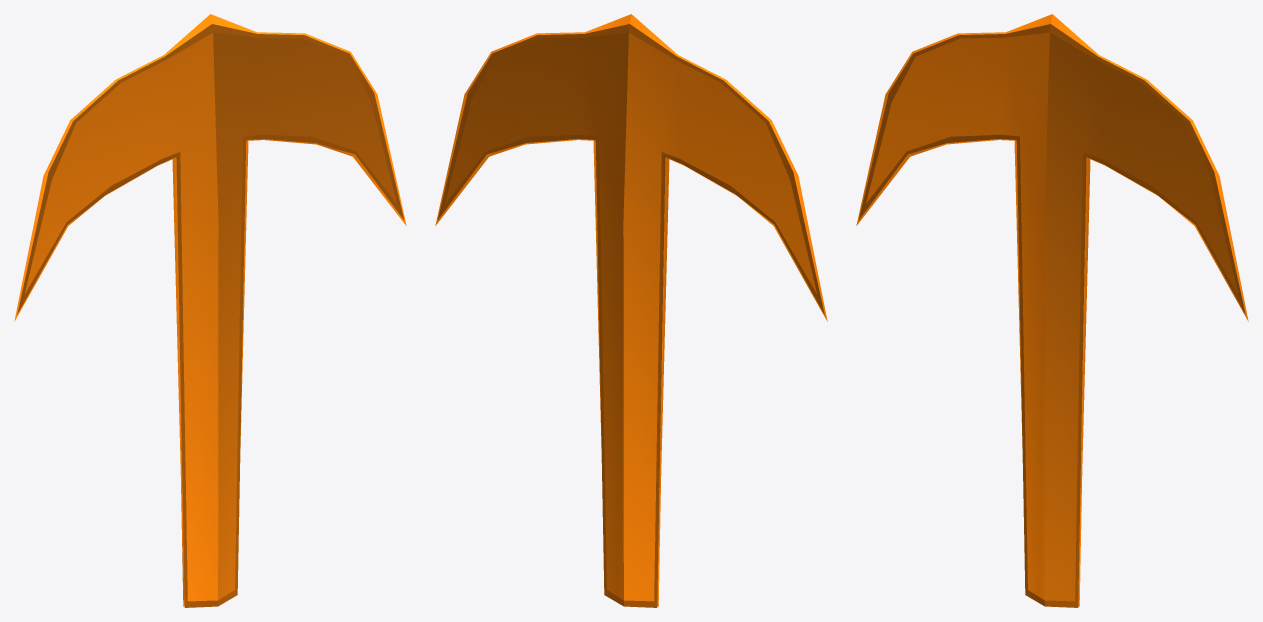
Rendered from bronze_blade (14).glb.
3 renders of one model, left to right at view 1: azimuth 30°, elevation 25°; view 2: azimuth 150°, elevation 25°; view 3: azimuth 330°, elevation 25°, orthographic.
Visible parts, largest first — view 1: bronze_blade_steel.029; view 2: bronze_blade_steel.029; view 3: bronze_blade_steel.029.
Part boxes in pixels (x1,y1,x2,y2): bronze_blade_steel.029: (14,14,406,607); bronze_blade_steel.029: (435,14,827,607); bronze_blade_steel.029: (856,14,1248,607).
Bounding box in the file's own units: 8.24 × 11.78 × 0.5834.
Materials: 1 (1 with a texture image).
